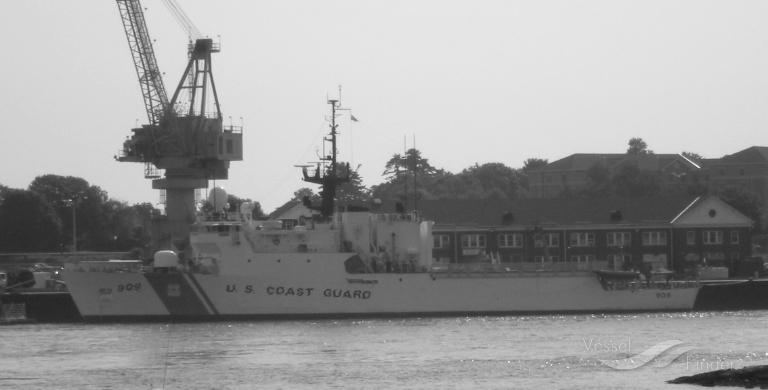OCR: (220, 270, 378, 307), (106, 278, 146, 298)
